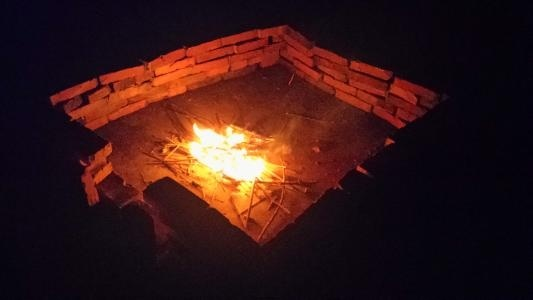fire: (184, 121, 269, 183)
